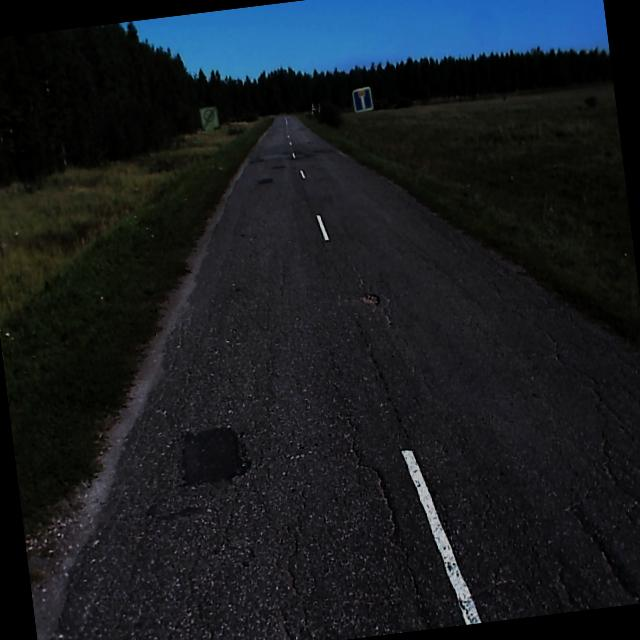road: (49, 118, 640, 640)
